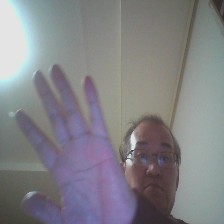hand: (11, 74, 135, 217)
